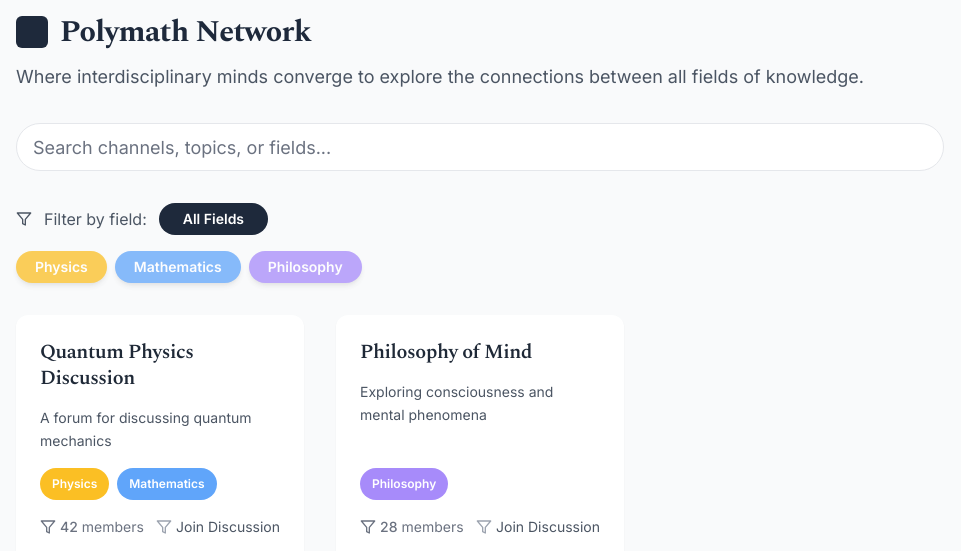
Test: Dashboard › filters channels by multiple tags when multiple tags are selected
The image size is (961, 551).
Expected: the button "Philosophy" below "Filter by field:" is shown, [249,251,362,283]
Note: Click Physics and Philosophy tag filter buttons (first occurrence)
Click the button "Physics" below "Filter by field:". click: [61, 267]
box: [16,251,107,283]
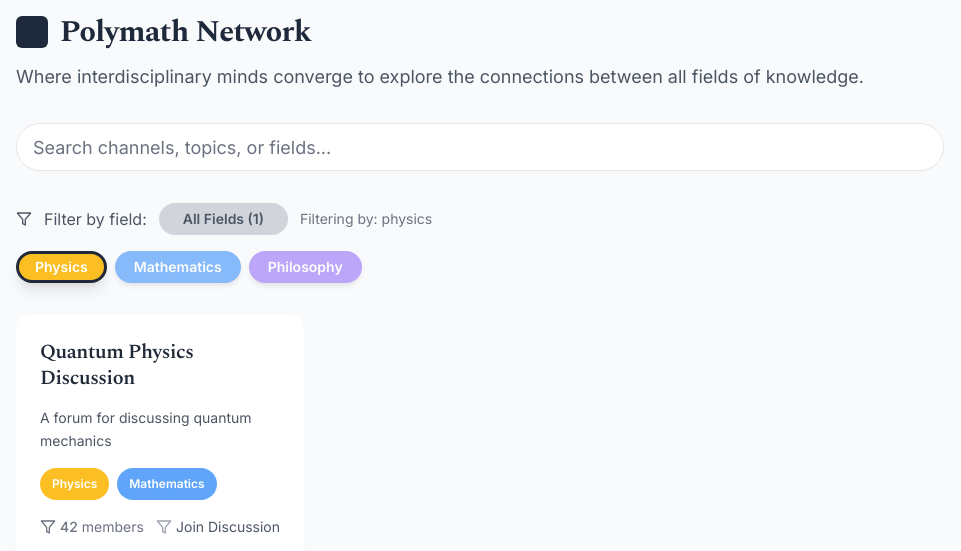
Click the button "Philosophy". click: [305, 267]
box: [249,251,362,283]
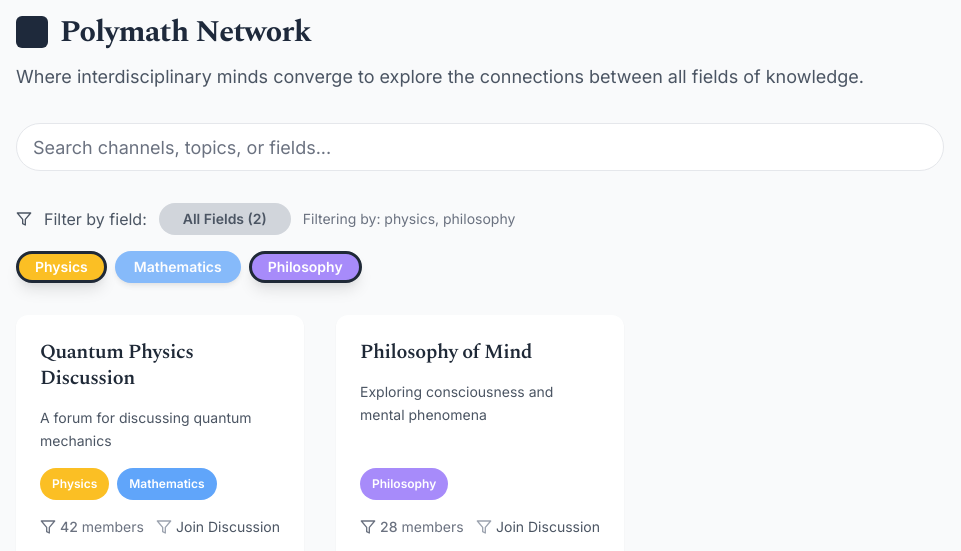
Expected: the heading "Quantum Physics Discussion" is shown, [40,337,194,393]
Expected: the heading "Philosophy of Mind" is shown, [360,337,532,367]
